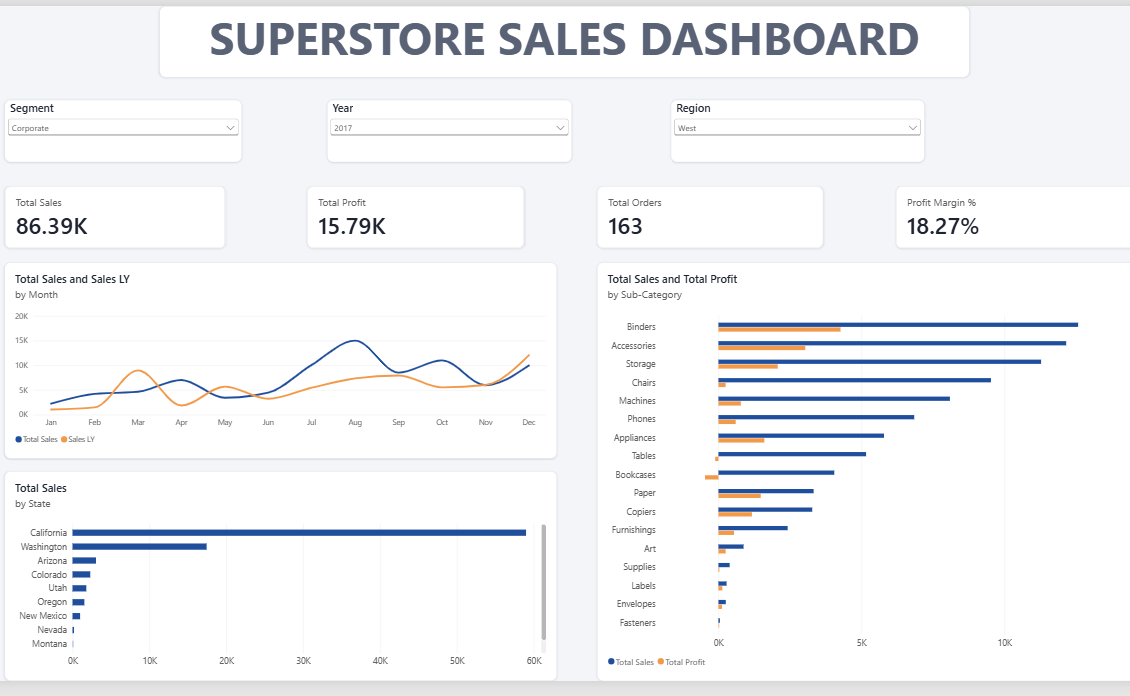

This screenshot's page, from the dashboard's own definition file:
{"tool":"powerbi","page":{"name":"Page 1","canvas":[1920,1080],"ordinal":0},"visuals":[{"type":"cardVisual","fields":{"Data":["Orders.Total Orders"]},"box":[1024,288,362,100],"z":0},{"type":"cardVisual","fields":{"Data":["Orders.Total Profit"]},"box":[560,288,348,100],"z":1000},{"type":"cardVisual","fields":{"Data":["Orders.Total Sales"]},"box":[76,288,354,100],"z":2000},{"type":"cardVisual","fields":{"Data":["Orders.Profit Margin %"]},"box":[1502,288,386,100],"z":3000},{"type":"lineChart","fields":{"Category":["Date.Month"],"Y":["Orders.Total Sales","Orders.Sales LY"]},"box":[76,410,884,314],"z":4000},{"type":"slicer","fields":{"Values":["Orders.Region"]},"box":[1142,150,406,100],"z":5000},{"type":"slicer","fields":{"Values":["Orders.Segment"]},"box":[76,150,380,100],"z":6000},{"type":"slicer","fields":{"Values":["Date.Year"]},"box":[592,150,392,100],"z":7000},{"type":"clusteredBarChart","fields":{"Category":["Orders.Category","Orders.Sub-Category"],"Y":["Orders.Total Sales","Orders.Total Profit"]},"box":[1024,410,864,670],"z":8000},{"type":"clusteredBarChart","fields":{"Category":["Orders.State"],"Y":["Orders.Total Sales"]},"box":[76,744,884,336],"z":9000},{"type":"textbox","box":[324,0,1296,114],"z":9001}]}

Visuals, with their boxes on the page's 1920x1080 design canvas (x1, y1, x2, y2). These are canvas units, not pixel positions in the 1130x696 screenshot, which may show the page scaled, cropped or inside an application window:
cardVisual - Orders.Total Orders: [1024, 288, 1386, 388]
cardVisual - Orders.Total Profit: [560, 288, 908, 388]
cardVisual - Orders.Total Sales: [76, 288, 430, 388]
cardVisual - Orders.Profit Margin %: [1502, 288, 1888, 388]
lineChart - Date.Month x Orders.Total Sales: [76, 410, 960, 724]
slicer - Orders.Region: [1142, 150, 1548, 250]
slicer - Orders.Segment: [76, 150, 456, 250]
slicer - Date.Year: [592, 150, 984, 250]
clusteredBarChart - Orders.Category x Orders.Sub-Category: [1024, 410, 1888, 1080]
clusteredBarChart - Orders.State x Orders.Total Sales: [76, 744, 960, 1080]
textbox: [324, 0, 1620, 114]
